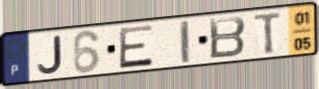6: (71, 28, 103, 75)
B: (207, 15, 248, 61)
E: (117, 23, 155, 71)
I: (178, 18, 192, 65)
J: (36, 34, 65, 76)
T: (252, 10, 283, 56)
